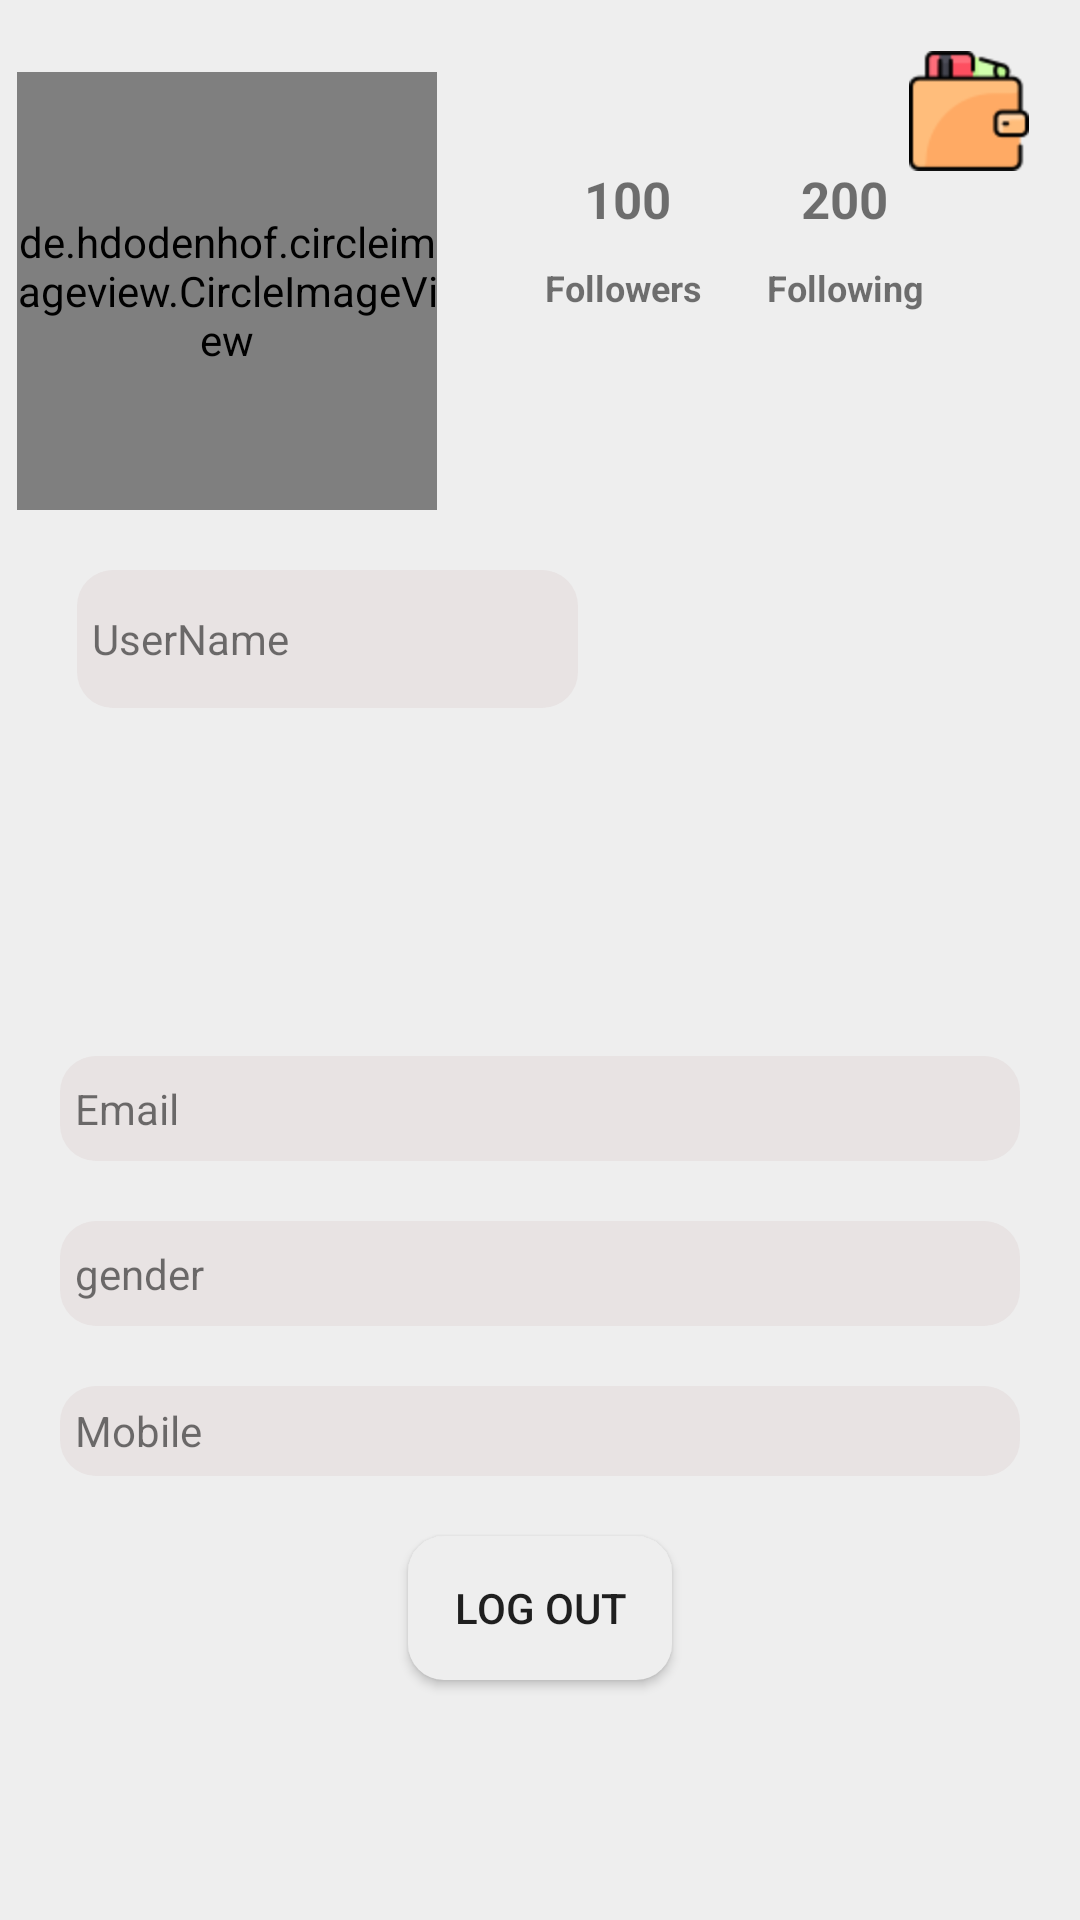

Icon click points for this 1080px x 1920px phone screenshot, format point (x, y):
wallet: point (969, 111)
